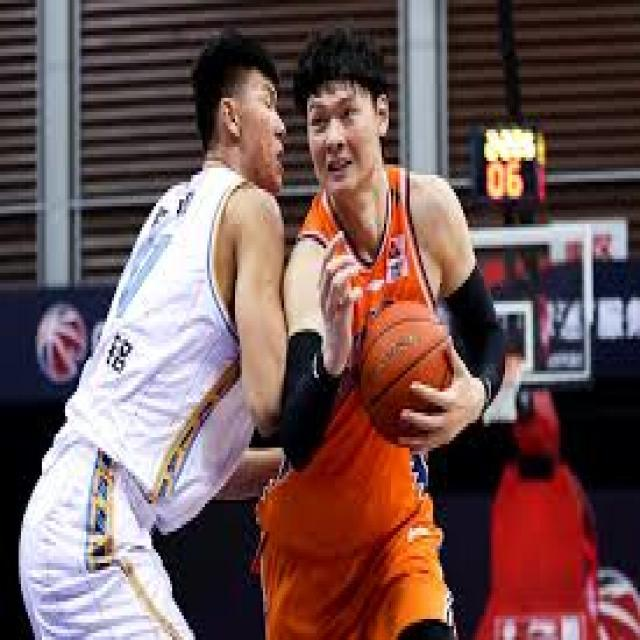rim: (363, 300, 454, 438)
